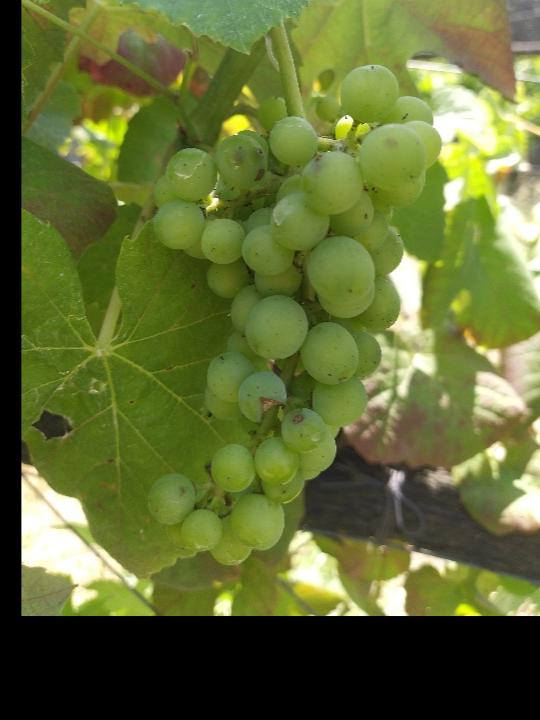grape: (141, 56, 446, 570)
